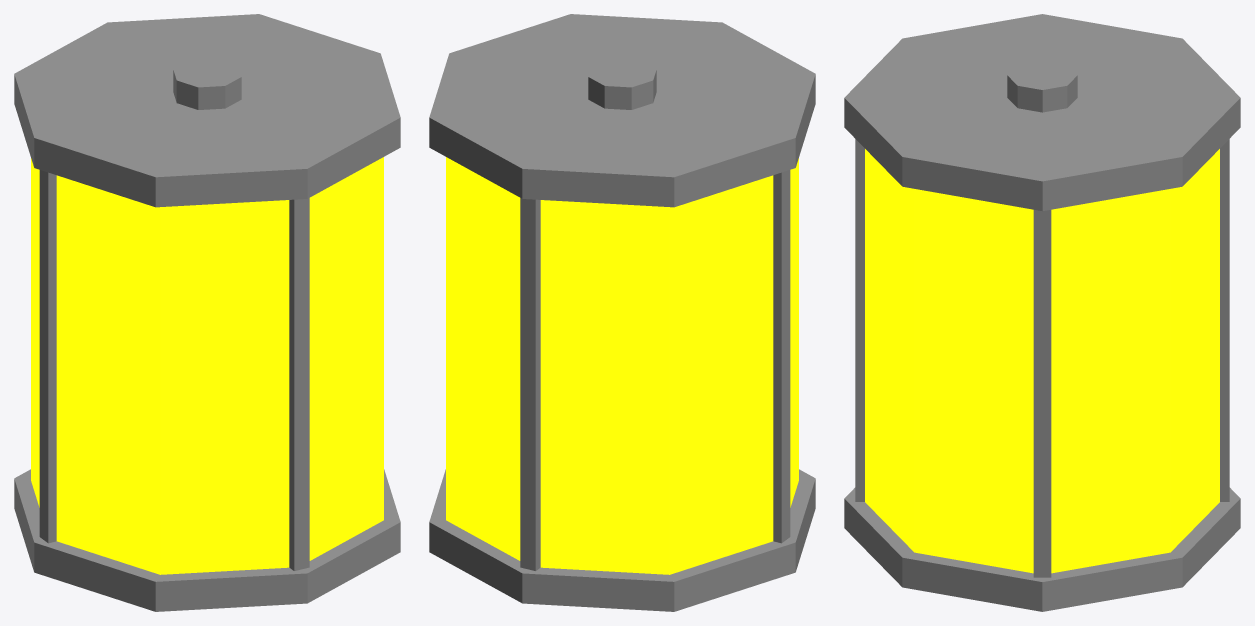
The model's file is PowerPellet.fbx.
The picture shows the model from 3 angles, left to right: view 1: azimuth 30°, elevation 25°; view 2: azimuth 150°, elevation 25°; view 3: azimuth 270°, elevation 25°; orthographic projection.
Parts seen in each view (by area): view 1: Circle; view 2: Circle; view 3: Circle.
Part boxes in pixels (x1=…): Circle: x1=14, y1=14, x2=400, y2=611; Circle: x1=429, y1=14, x2=815, y2=611; Circle: x1=844, y1=14, x2=1240, y2=611.
Bounding box in the file's own units: 200 × 264 × 200.
